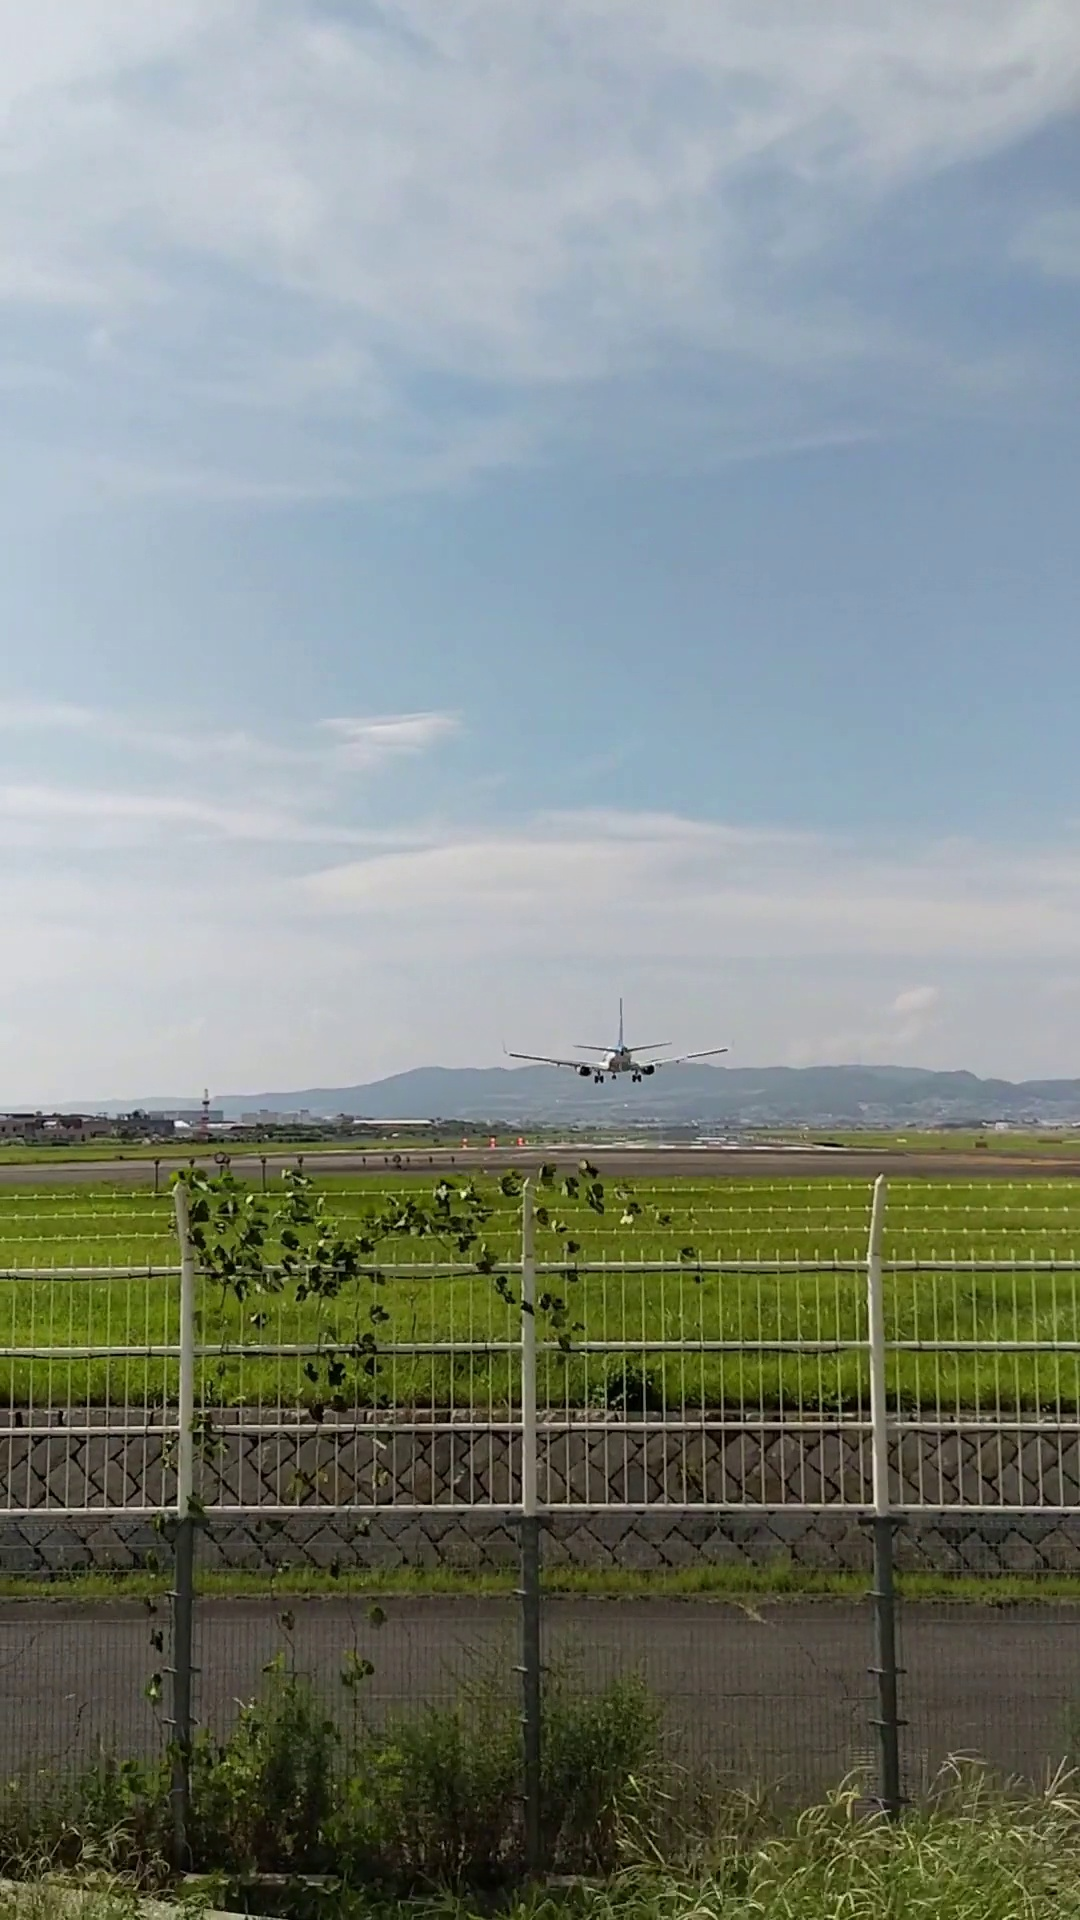plane: (498, 998, 729, 1084)
